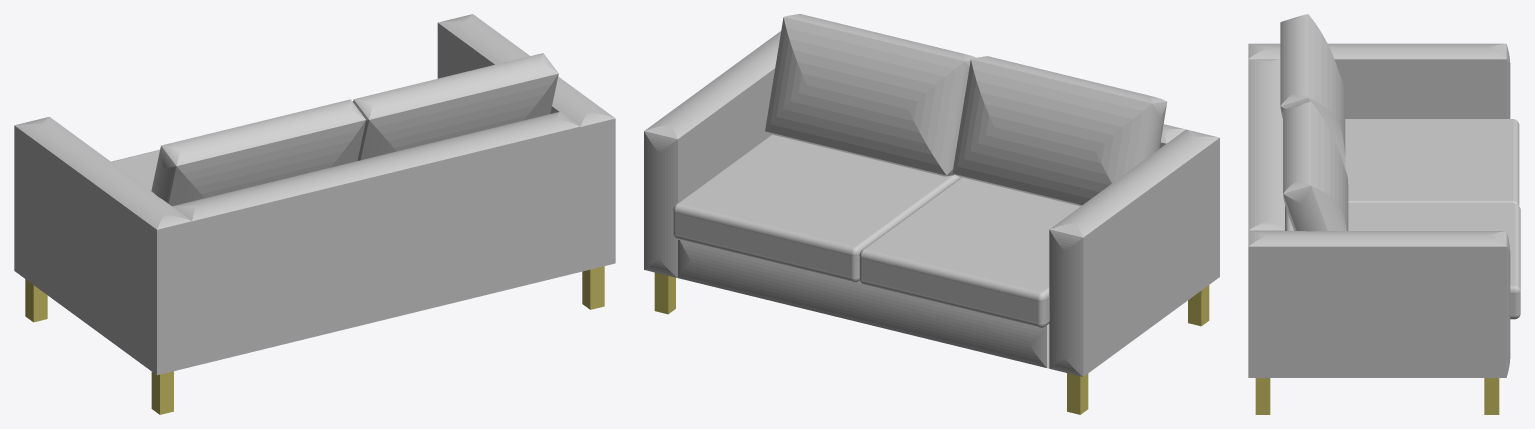
The picture shows the model from 3 angles, left to right: view 1: azimuth 30°, elevation 25°; view 2: azimuth 150°, elevation 25°; view 3: azimuth 270°, elevation 25°; orthographic projection. The views are drawn at different scales.
Visible parts, largest first — view 1: Mesh4 Group4 Group3 Model, Mesh1 Group1 Model, Mesh12 back_cushion2 Model, Mesh11 back_cushion1 Model, Mesh2 Group2 Model, Mesh3 Group5 Group4 Group3 Model, Mesh10 seat_cushion2 Model, Mesh8 Group8 Model, Mesh14 Model, Mesh7 Group7 Model; view 2: Mesh1 Group1 Model, Mesh9 seat_cushion1 Model, Mesh11 back_cushion1 Model, Mesh12 back_cushion2 Model, Mesh10 seat_cushion2 Model, Mesh6 Group6 Model, Mesh2 Group2 Model, Mesh7 Group7 Model, Mesh13 Model, Mesh8 Group8 Model; view 3: Mesh2 Group2 Model, Mesh10 seat_cushion2 Model, Mesh1 Group1 Model, Mesh11 back_cushion1 Model, Mesh3 Group5 Group4 Group3 Model, Mesh9 seat_cushion1 Model, Mesh12 back_cushion2 Model, Mesh13 Model, Mesh14 Model.
Boxes of the visible parts, left/top/right/bottom form: Mesh4 Group4 Group3 Model: left=192, top=126, right=580, bottom=366; Mesh1 Group1 Model: left=14, top=117, right=192, bottom=375; Mesh12 back_cushion2 Model: left=151, top=99, right=365, bottom=206; Mesh11 back_cushion1 Model: left=353, top=53, right=558, bottom=160; Mesh2 Group2 Model: left=437, top=14, right=615, bottom=271; Mesh3 Group5 Group4 Group3 Model: left=172, top=111, right=579, bottom=221; Mesh10 seat_cushion2 Model: left=111, top=149, right=159, bottom=190; Mesh8 Group8 Model: left=151, top=371, right=173, bottom=414; Mesh14 Model: left=582, top=266, right=604, bottom=309; Mesh7 Group7 Model: left=25, top=279, right=47, bottom=322; Mesh1 Group1 Model: left=1049, top=129, right=1219, bottom=376; Mesh9 seat_cushion1 Model: left=673, top=134, right=960, bottom=282; Mesh11 back_cushion1 Model: left=765, top=14, right=975, bottom=176; Mesh12 back_cushion2 Model: left=952, top=56, right=1166, bottom=206; Mesh10 seat_cushion2 Model: left=859, top=177, right=1080, bottom=327; Mesh6 Group6 Model: left=678, top=239, right=1048, bottom=367; Mesh2 Group2 Model: left=644, top=31, right=780, bottom=277; Mesh7 Group7 Model: left=1067, top=373, right=1088, bottom=414; Mesh13 Model: left=654, top=272, right=675, bottom=314; Mesh8 Group8 Model: left=1188, top=285, right=1209, bottom=326; Mesh2 Group2 Model: left=1248, top=231, right=1510, bottom=377; Mesh10 seat_cushion2 Model: left=1285, top=119, right=1519, bottom=206; Mesh1 Group1 Model: left=1248, top=43, right=1510, bottom=118; Mesh11 back_cushion1 Model: left=1283, top=102, right=1348, bottom=231; Mesh3 Group5 Group4 Group3 Model: left=1248, top=59, right=1284, bottom=230; Mesh9 seat_cushion1 Model: left=1285, top=203, right=1520, bottom=319; Mesh12 back_cushion2 Model: left=1280, top=14, right=1345, bottom=168; Mesh13 Model: left=1484, top=378, right=1499, bottom=414; Mesh14 Model: left=1255, top=378, right=1270, bottom=414.
Bounding box in the file's own units: 0.8218 × 0.4129 × 0.4671.
